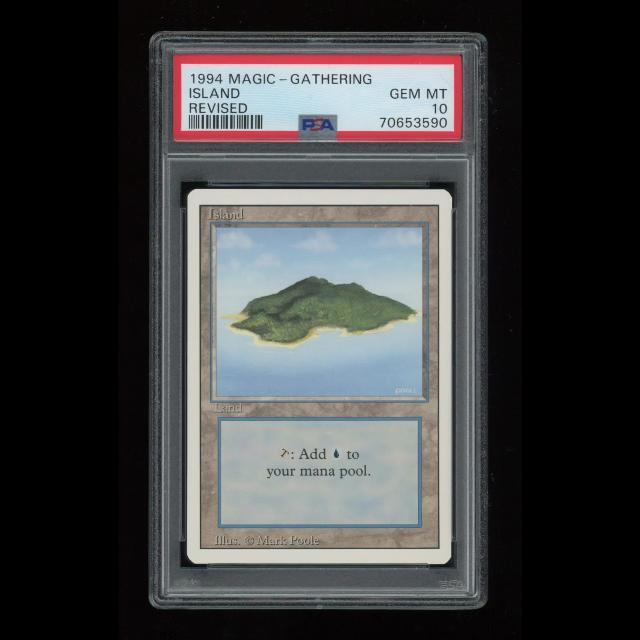card: (187, 188, 453, 565)
psa_label: (173, 54, 463, 141)
psa_slab: (148, 31, 490, 609)
